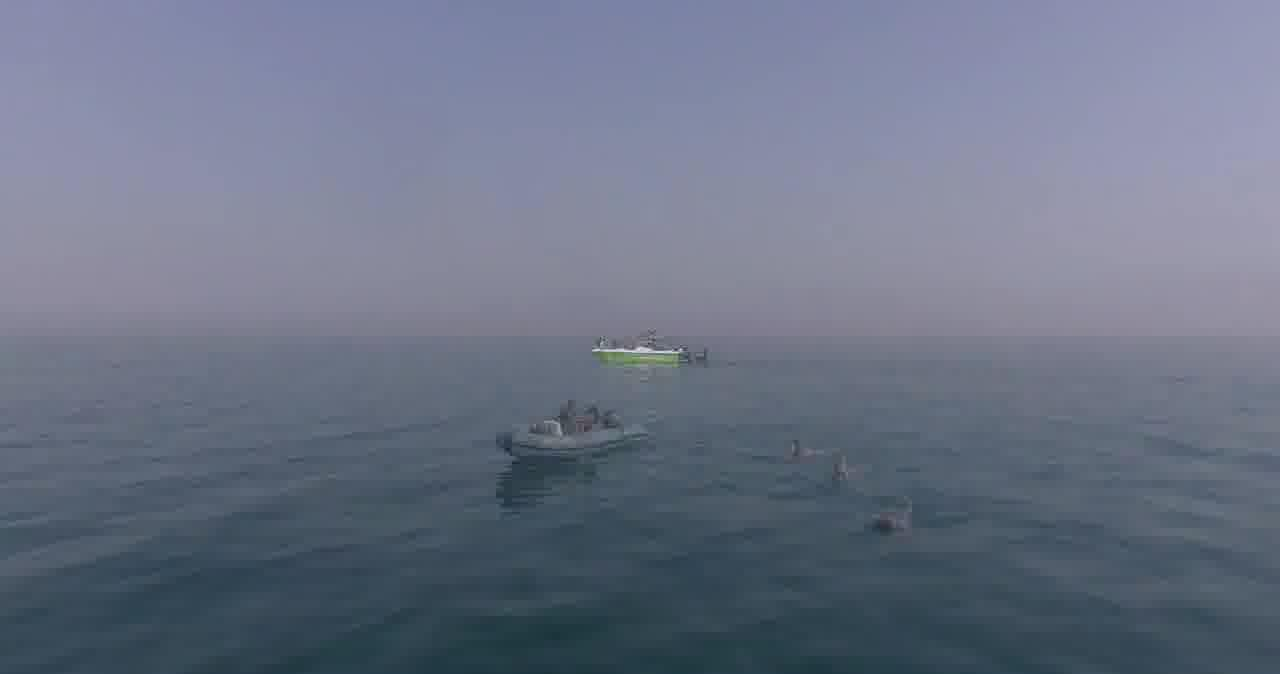human: (863, 510, 928, 548), (776, 427, 810, 465), (830, 454, 847, 489)
